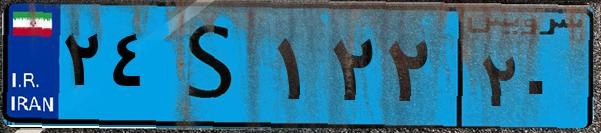0: (525, 38, 570, 115)
1: (270, 28, 330, 110)
2: (385, 28, 445, 110), (330, 28, 385, 110), (57, 26, 110, 100), (475, 38, 525, 113)
4: (110, 28, 158, 98)
S: (158, 12, 270, 120)
